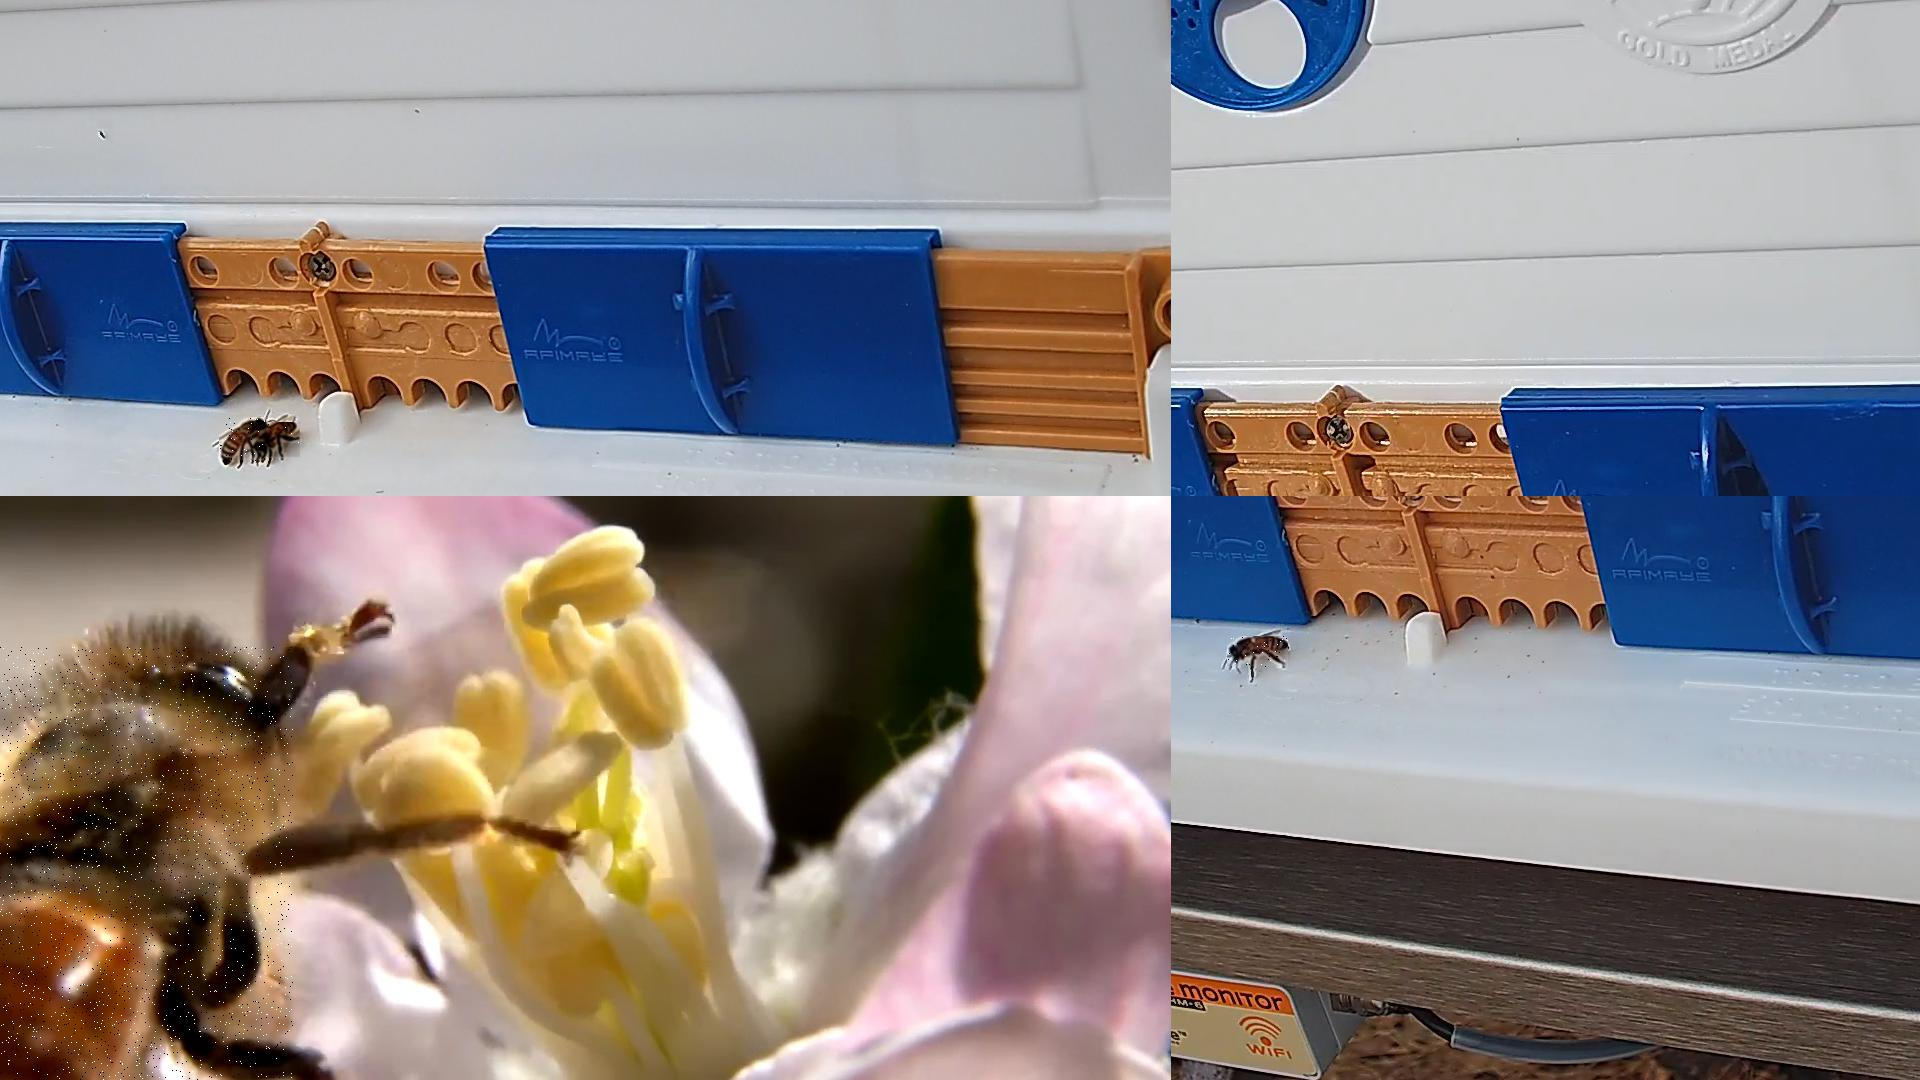bee: (0, 647, 295, 1079), (219, 418, 265, 463), (1228, 637, 1290, 669), (252, 423, 301, 460)
